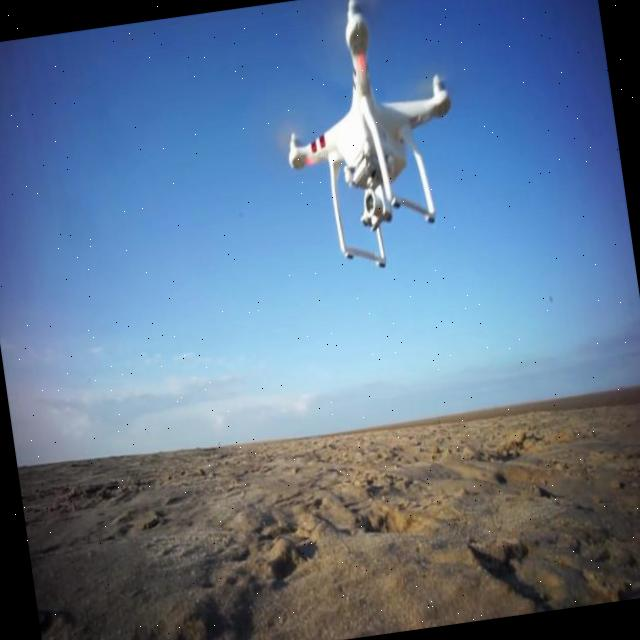drone: (266, 0, 472, 282)
